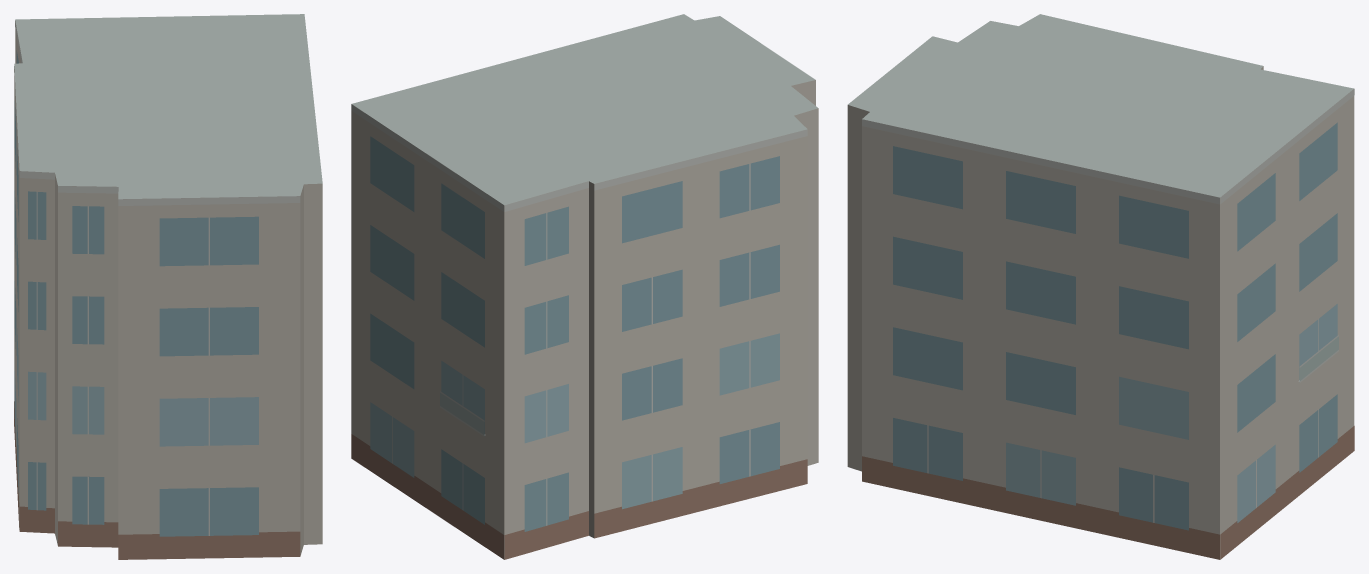
The model's file is survey-upis-32918298.glb.
The picture shows the model from 3 angles, left to right: view 1: azimuth 30°, elevation 25°; view 2: azimuth 150°, elevation 25°; view 3: azimuth 270°, elevation 25°; orthographic projection. The views are drawn at different scales.
Parts seen in each view (by area): view 1: survey-upis-32918298.tmp; view 2: survey-upis-32918298.tmp; view 3: survey-upis-32918298.tmp.
Part boxes in pixels (<box>): survey-upis-32918298.tmp: <box>14,14,322,559</box>; survey-upis-32918298.tmp: <box>351,14,818,559</box>; survey-upis-32918298.tmp: <box>847,14,1354,559</box>.
Bounding box in the file's own units: 13.92 × 12.8 × 16.24.
